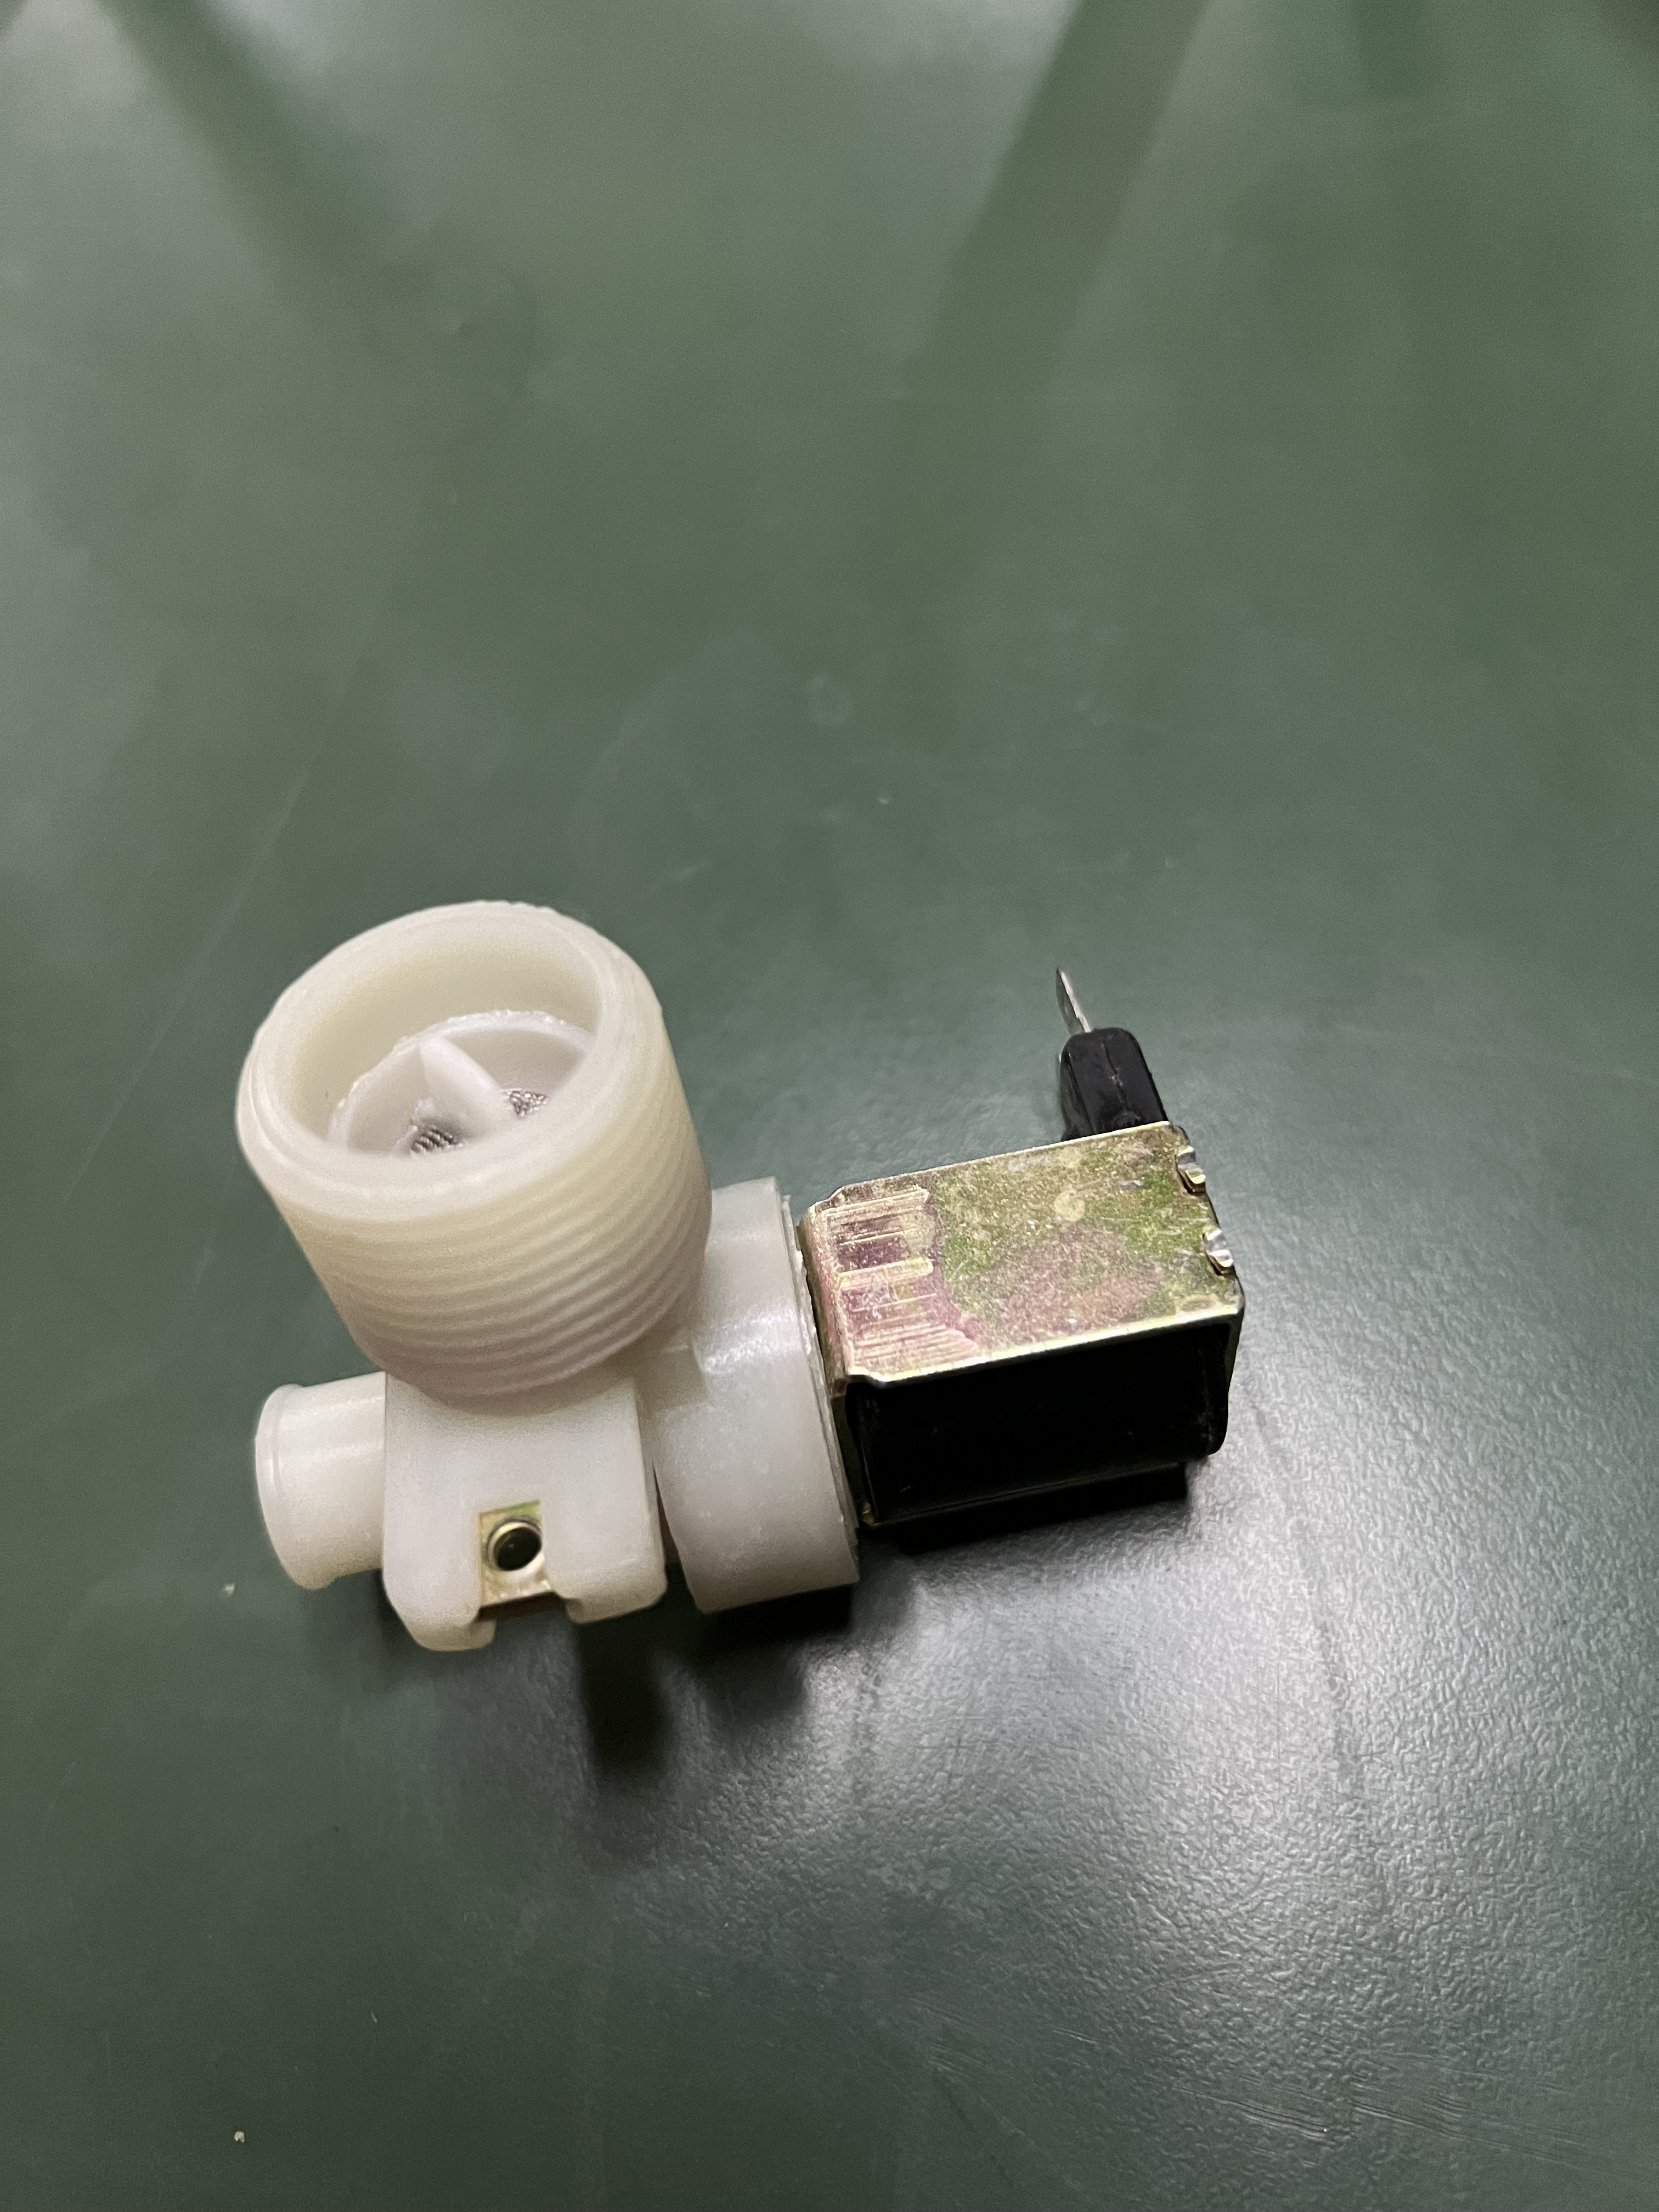godrej_inlet_valves: (139, 843, 1269, 1670)
